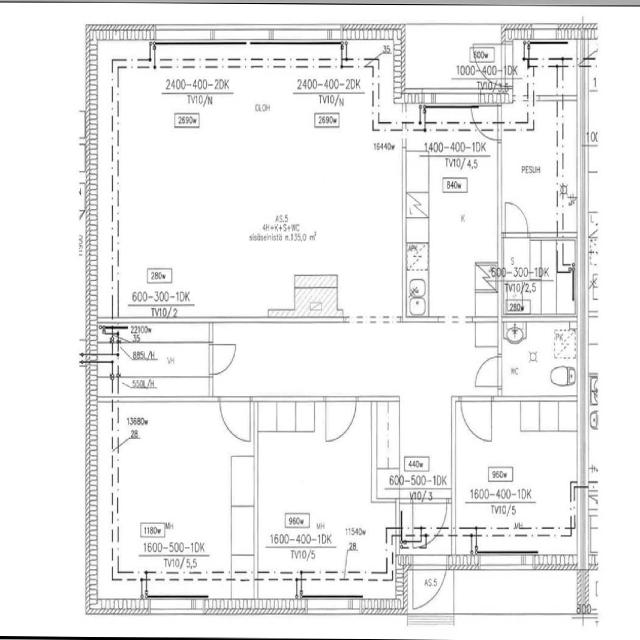door: (217, 395, 253, 445), (323, 395, 358, 446), (459, 396, 494, 444), (207, 339, 240, 379), (471, 352, 504, 392), (501, 198, 532, 240)
window: (113, 382, 215, 411), (477, 552, 536, 572), (305, 600, 367, 617)
zone: (108, 399, 254, 579), (255, 397, 379, 561), (454, 397, 581, 548), (406, 136, 500, 323), (500, 102, 580, 238), (377, 392, 454, 488), (403, 24, 505, 96), (111, 325, 212, 395), (500, 318, 578, 399), (500, 238, 577, 318), (414, 106, 499, 156), (404, 250, 430, 318), (529, 41, 578, 68)
